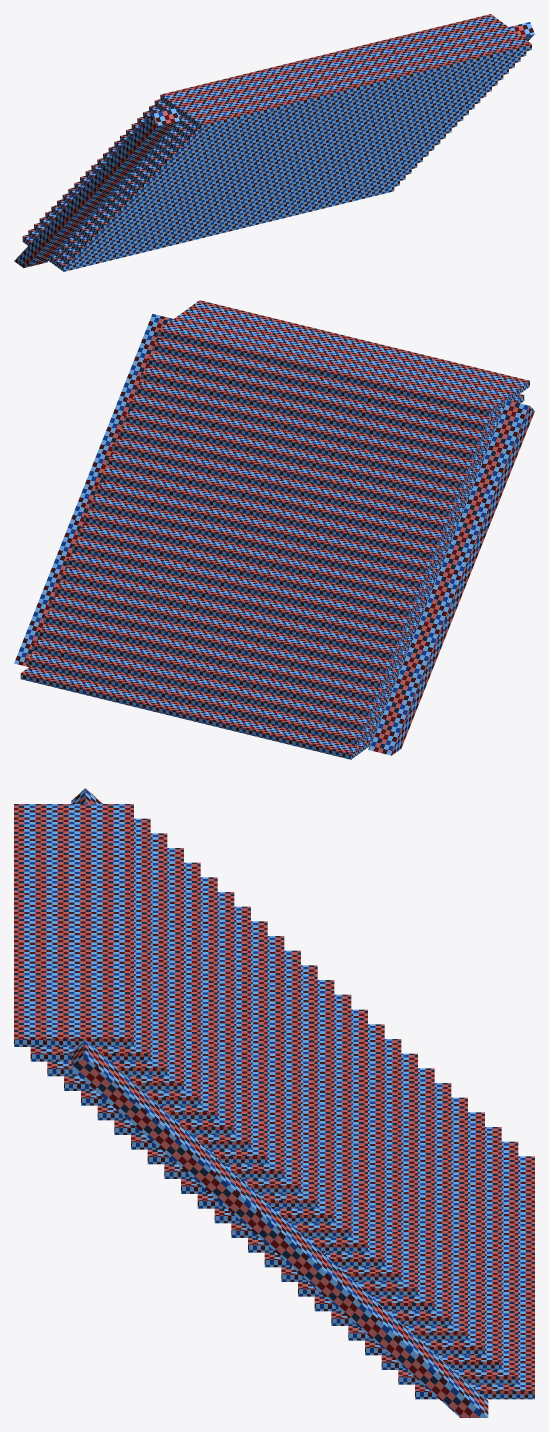
Rendered from Stairs_half.fbx.
3 views of the same model, one above another, from view 1: azimuth 30°, elevation 25°; view 2: azimuth 150°, elevation 25°; view 3: azimuth 270°, elevation 25° (orthographic). The views are drawn at different scales.
Parts seen in each view (by area): view 1: Half_stairs_01; view 2: Half_stairs_01; view 3: Half_stairs_01.
Part boxes in pixels (box(x1,y1,x2,y2)): Half_stairs_01: box(14, 14, 534, 271); Half_stairs_01: box(14, 300, 534, 759); Half_stairs_01: box(14, 788, 534, 1417).
Size of the model in its own units: 400 by 253 by 328.
1 material, 1 textured.
